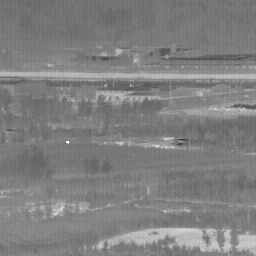Target: (64, 139, 71, 145)
